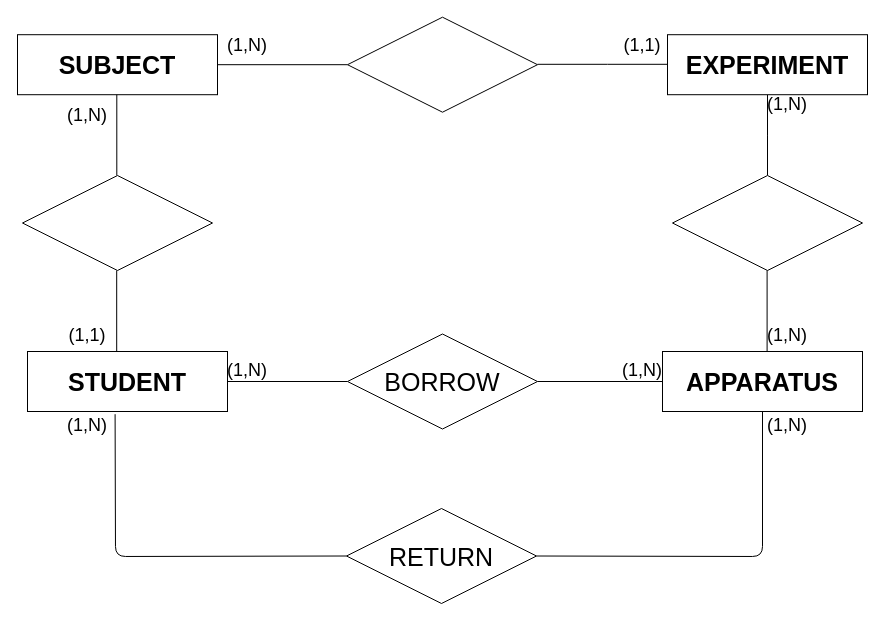
Image size: 885x622. Some labels were removed from this diagram. The box of each missing label's shape, as (x1, y1, x2, y2) in pixels:
EXP_APP: (672, 174, 862, 270)
STU_SUB: (22, 174, 212, 270)
SUB_EXP: (346, 16, 538, 112)
